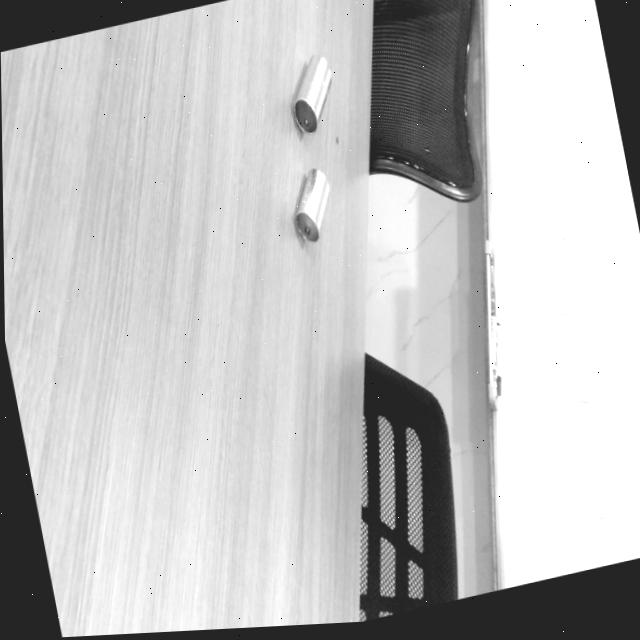Co_Lon: (285, 53, 336, 135)
Co_Nho: (290, 167, 332, 243)
